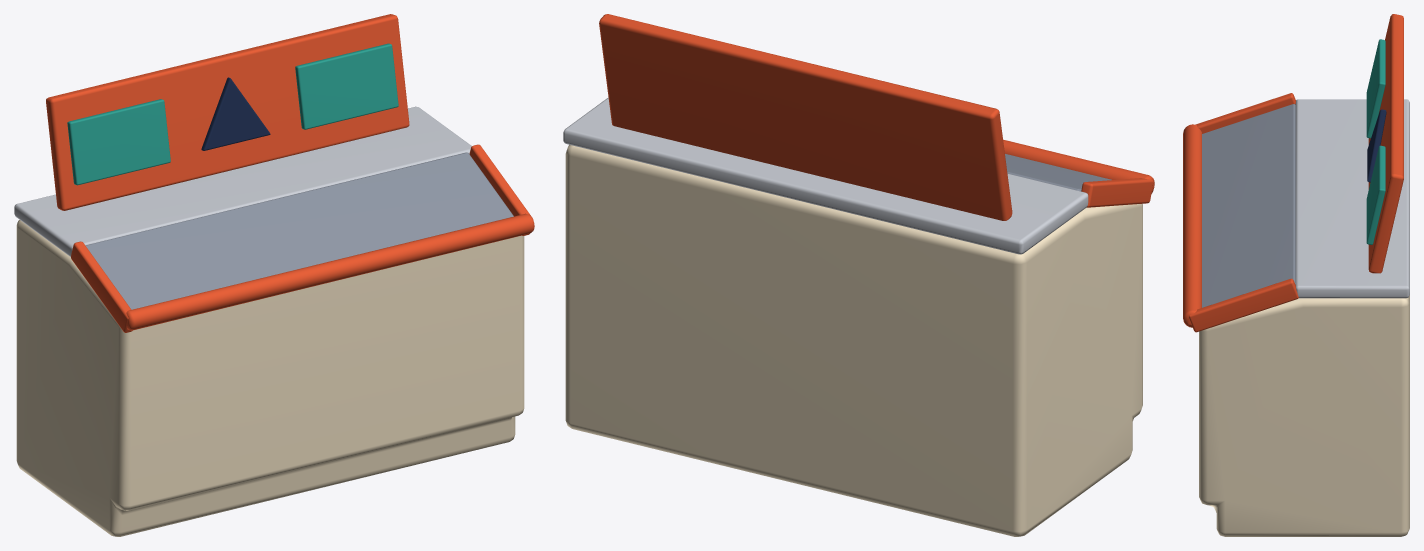
File: Console_Pilot.fbx
3 views of the same model, side by side, from view 1: azimuth 30°, elevation 25°; view 2: azimuth 150°, elevation 25°; view 3: azimuth 270°, elevation 25° (orthographic). The views are drawn at different scales.
Parts seen in each view (by area): view 1: Console_Pilot.Body, Console_Pilot.Panel, Console_Pilot.Board, Console_Pilot.Top, Console_Pilot.Rim, Console_Pilot.Screen_R, Console_Pilot.Screen_L, Console_Pilot.Icon; view 2: Console_Pilot.Body, Console_Pilot.Board, Console_Pilot.Top, Console_Pilot.Rim, Console_Pilot.Panel; view 3: Console_Pilot.Body, Console_Pilot.Top, Console_Pilot.Panel, Console_Pilot.Rim, Console_Pilot.Board, Console_Pilot.Screen_R, Console_Pilot.Screen_L, Console_Pilot.Icon.
Part boxes in pixels (x1,y1,x2,y2): Console_Pilot.Body: (16, 220, 524, 536); Console_Pilot.Panel: (85, 152, 513, 309); Console_Pilot.Board: (46, 14, 409, 210); Console_Pilot.Top: (14, 106, 471, 256); Console_Pilot.Rim: (71, 144, 534, 332); Console_Pilot.Screen_R: (295, 43, 398, 129); Console_Pilot.Screen_L: (67, 99, 170, 185); Console_Pilot.Icon: (201, 77, 270, 150); Console_Pilot.Body: (565, 144, 1142, 536); Console_Pilot.Board: (599, 14, 1012, 220); Console_Pilot.Top: (563, 97, 1088, 254); Console_Pilot.Rim: (1003, 139, 1154, 207); Console_Pilot.Panel: (1005, 154, 1111, 191); Console_Pilot.Body: (1199, 295, 1409, 536); Console_Pilot.Top: (1295, 99, 1409, 298); Console_Pilot.Panel: (1202, 104, 1295, 307); Console_Pilot.Rim: (1183, 93, 1298, 332); Console_Pilot.Board: (1368, 14, 1403, 273); Console_Pilot.Screen_R: (1366, 145, 1385, 244); Console_Pilot.Screen_L: (1366, 39, 1385, 138); Console_Pilot.Icon: (1367, 109, 1386, 182).
Bounding box in the file's own units: 1.29 × 1.11 × 0.6485.
Materials: 1 (1 with a texture image).
